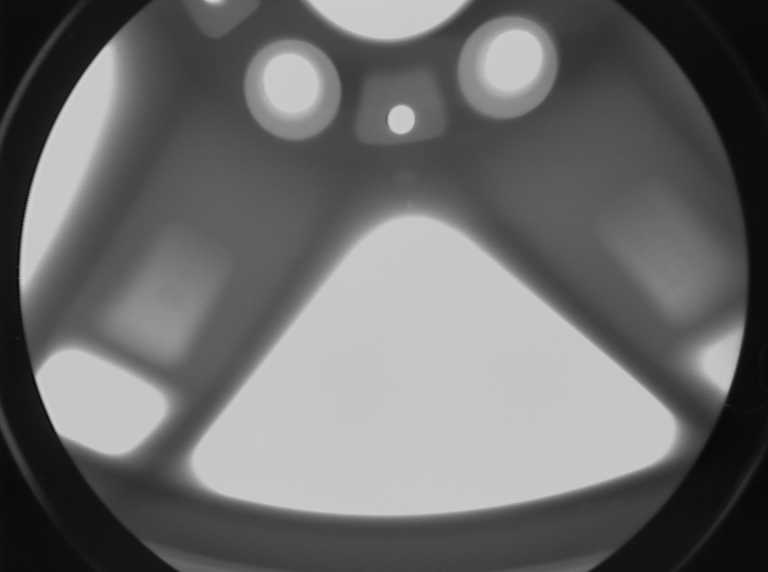defect: (305, 184, 323, 198)
